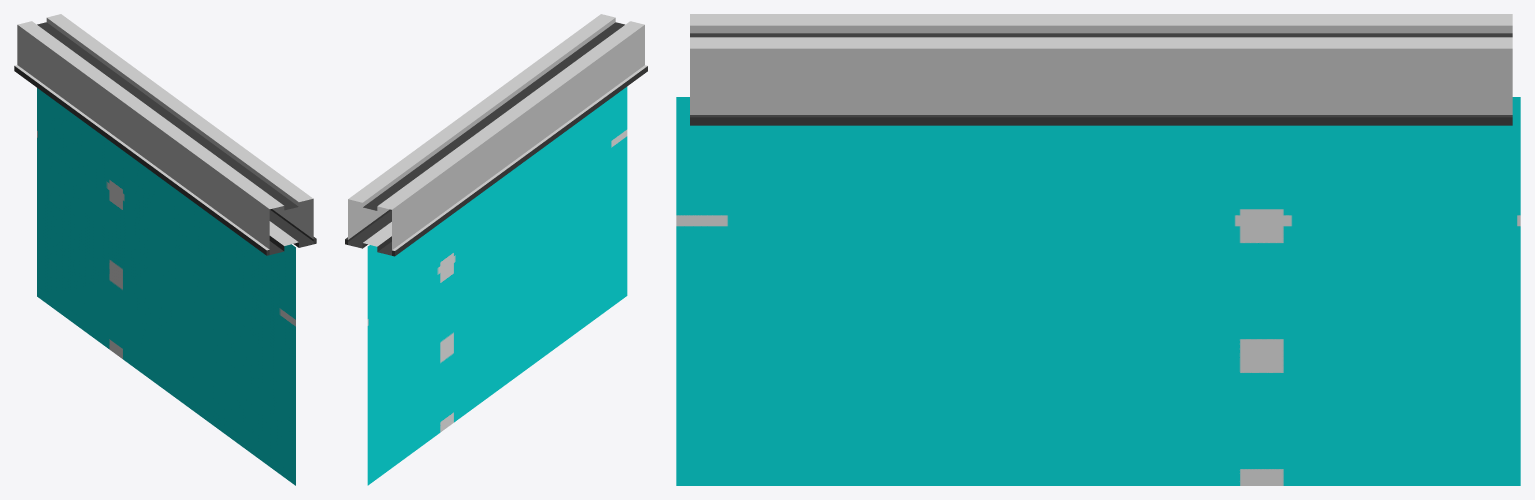
Rendered from ModDiv_Panel_Small.fbx.
3 views of the same model, side by side, from view 1: azimuth 30°, elevation 25°; view 2: azimuth 150°, elevation 25°; view 3: azimuth 270°, elevation 25° (orthographic). The views are drawn at different scales.
Visible parts, largest first — view 1: Short_Holo; view 2: Short_Holo; view 3: Short_Holo.
Part boxes in pixels (x1,y1,x2,y2): Short_Holo: (14, 14, 316, 485); Short_Holo: (345, 14, 647, 485); Short_Holo: (676, 14, 1520, 485).
Bounding box in the file's own units: 34.15 × 183 × 308.
Materials: 3 (1 with a texture image).
